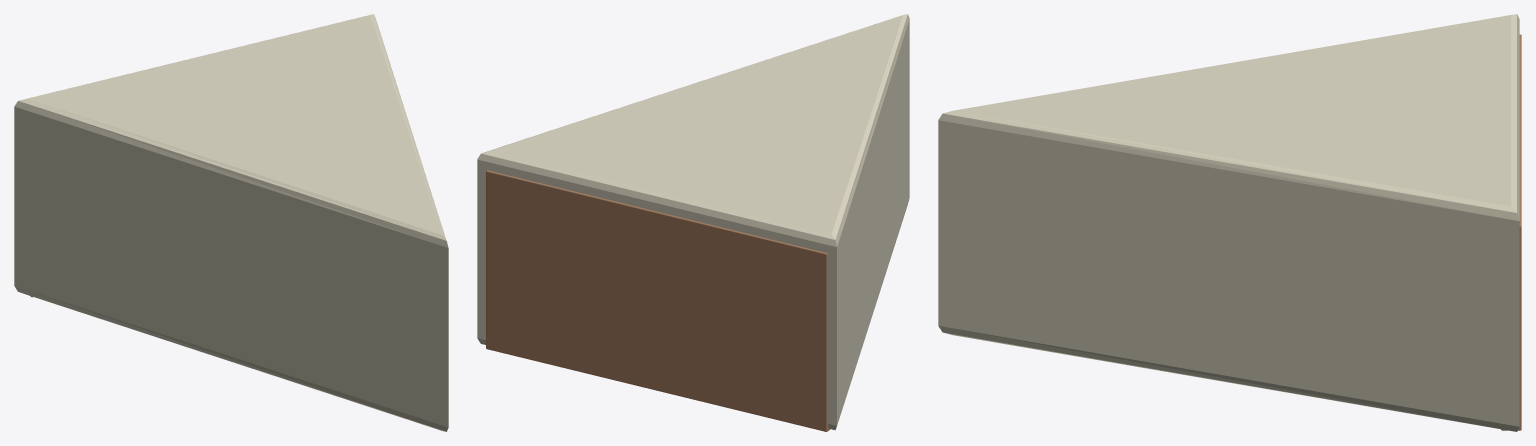
Rendered from survival-food-and-preservation-cheese-wedge-425eeb3b__21755.glb.
3 views of the same model, side by side, from view 1: azimuth 30°, elevation 25°; view 2: azimuth 150°, elevation 25°; view 3: azimuth 270°, elevation 25° (orthographic). The views are drawn at different scales.
Parts seen in each view (by area): view 1: cheese-wedge; view 2: cheese-wedge; view 3: cheese-wedge.
Part boxes in pixels (x1=…): cheese-wedge: x1=14, y1=14, x2=448, y2=431; cheese-wedge: x1=477, y1=14, x2=909, y2=431; cheese-wedge: x1=938, y1=14, x2=1521, y2=431.
Bounding box in the file's own units: 0.137 × 0.071 × 0.1672.
